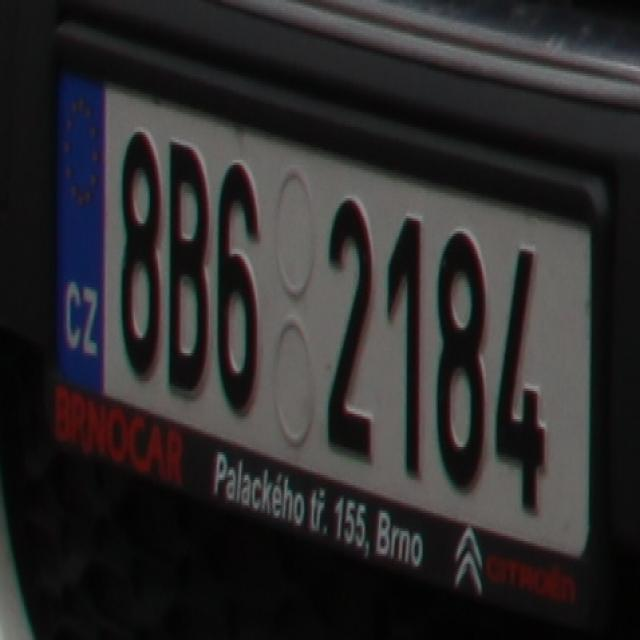1: (387, 213, 423, 480)
2: (322, 193, 378, 460)
4: (492, 236, 544, 516)
6: (214, 150, 261, 409)
8: (432, 226, 486, 488), (115, 122, 161, 373)
B: (162, 135, 210, 386)
